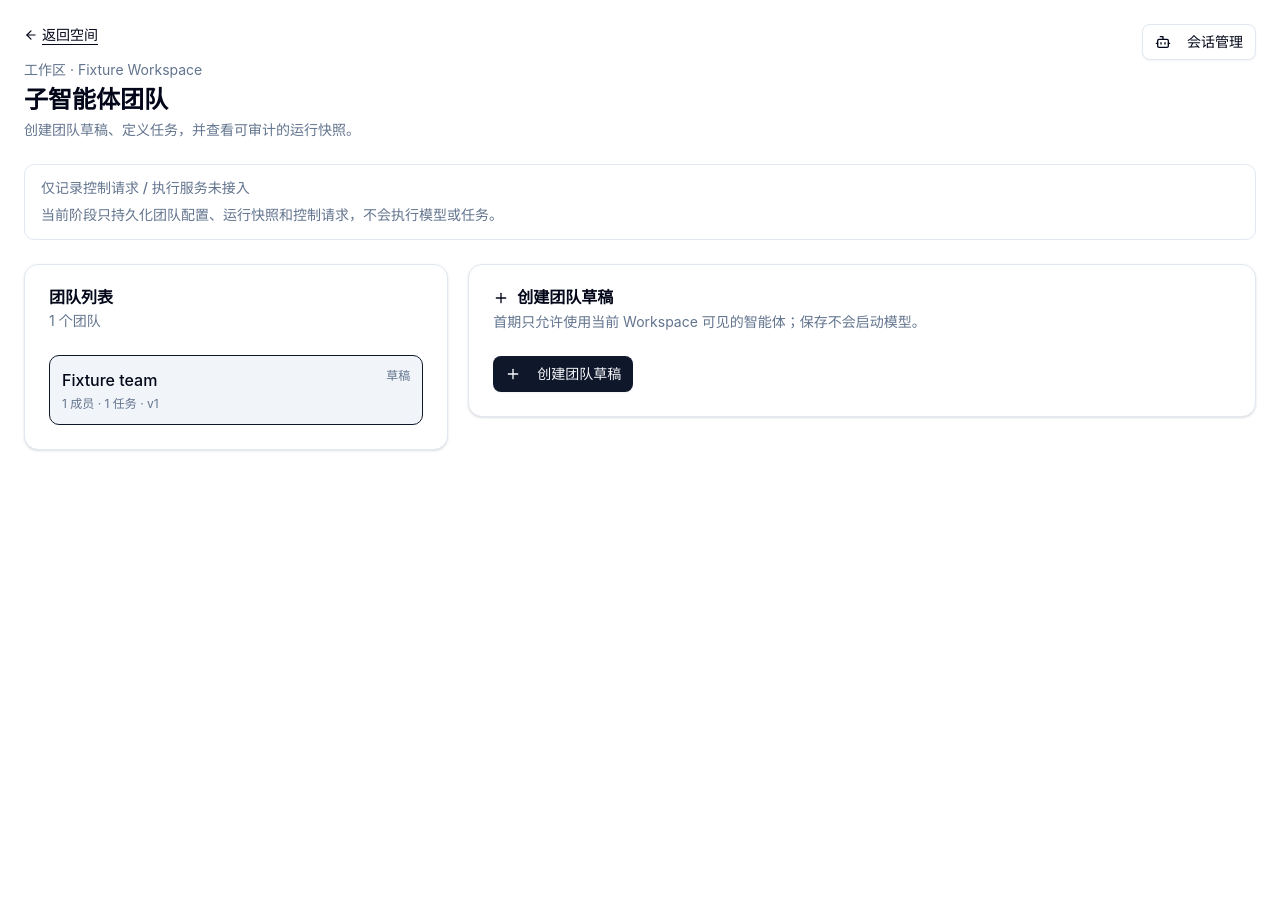
Test: F27b team control UI with fixture APIs › keeps an interrupt failure in the dialog and allows an explicit retry
Click the button "Fixture team 草稿 1 成员 · 1 任务 · v1".
click(110, 380)  # box [49, 354, 423, 424]
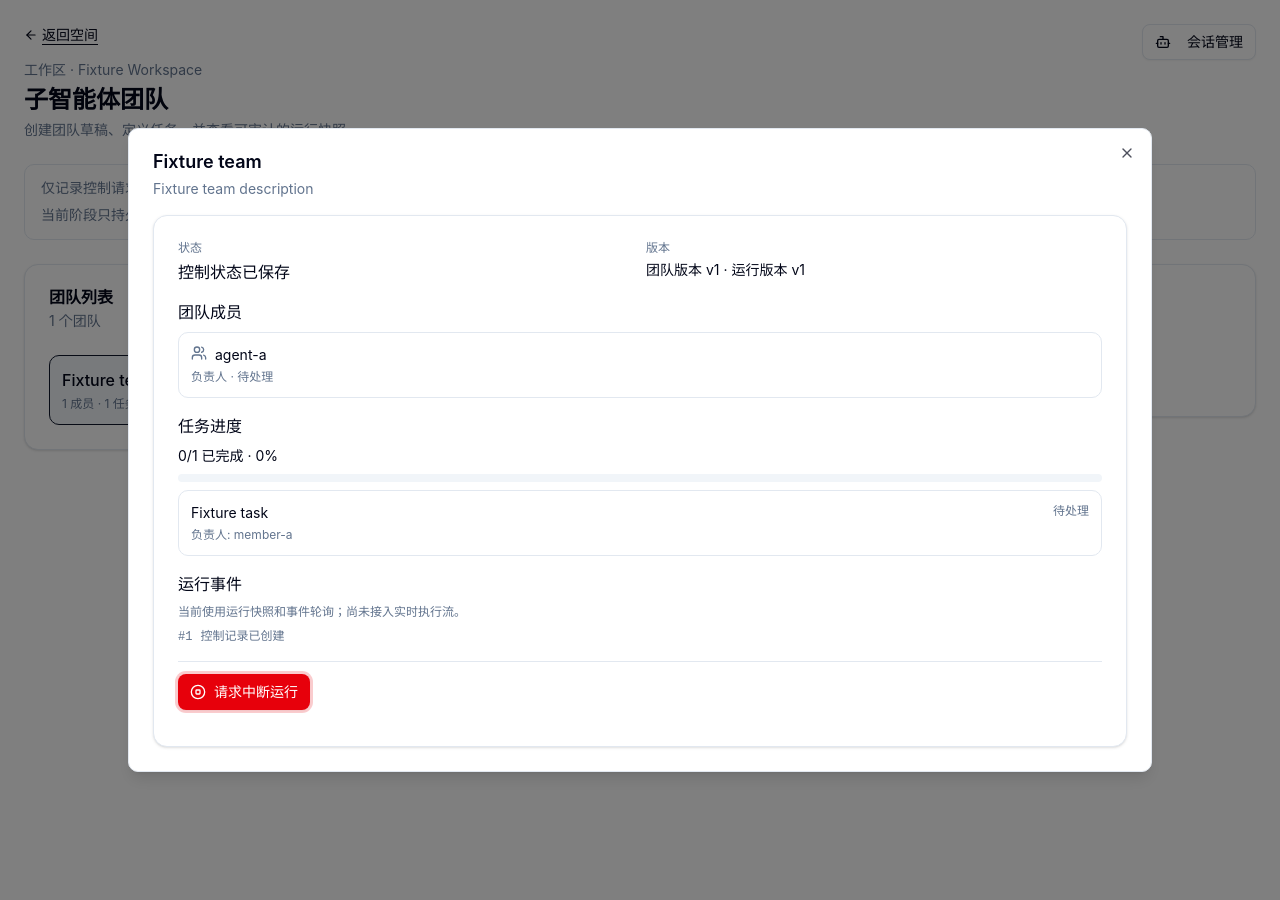
Click the button "请求中断运行".
click(244, 692)  # box [178, 674, 310, 710]
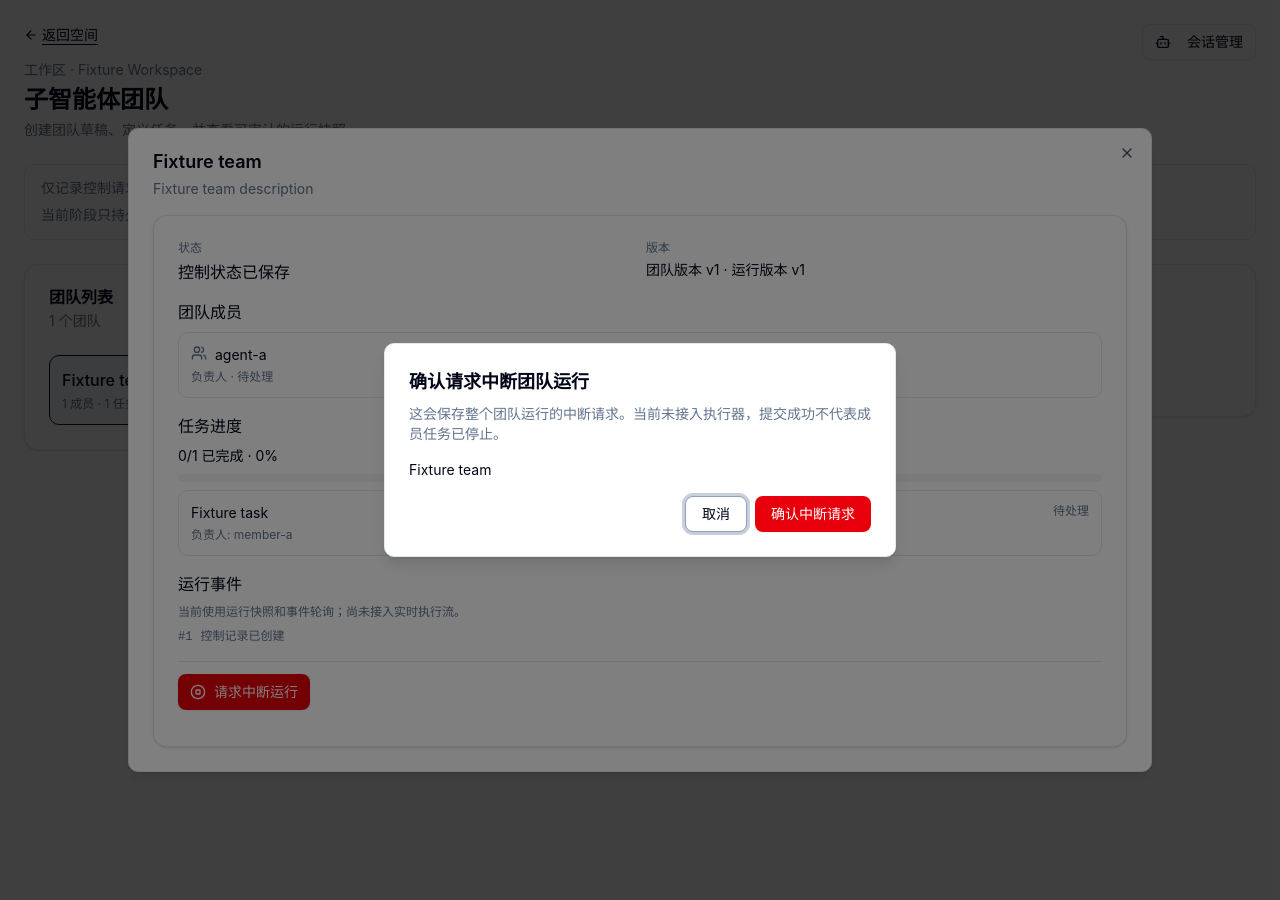
Click the button "确认中断请求".
click(813, 514)  # box [755, 496, 871, 532]
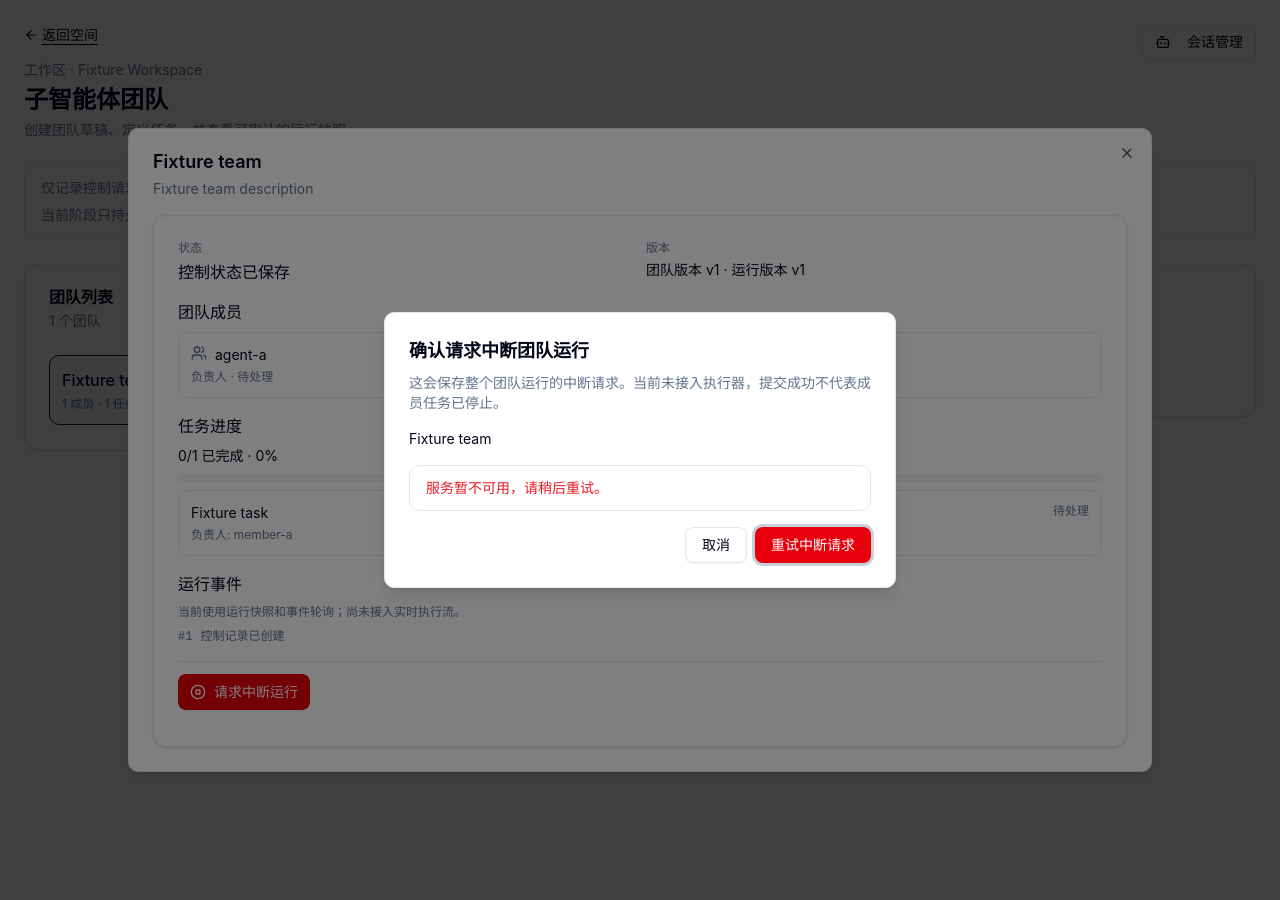
Expected: the dialog that starts with "确认请求中断团队运行" shows "服务暂不可用，请稍后重试。", [426, 479, 608, 496]
Click the button "重试中断请求".
click(813, 545)  # box [755, 527, 871, 563]
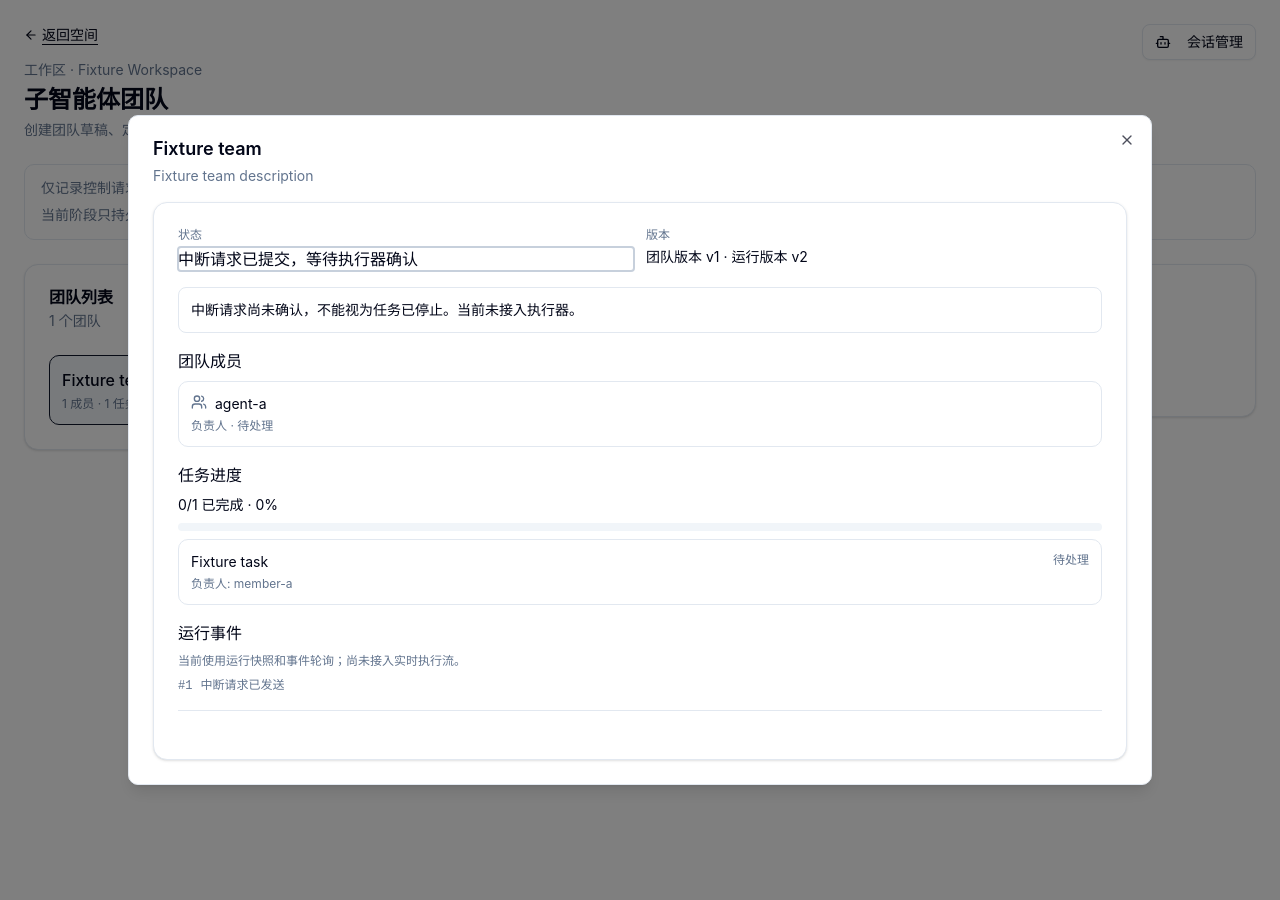
Expected: the message reads "中断请求已提交，等待执行器确认", [178, 249, 418, 269]
